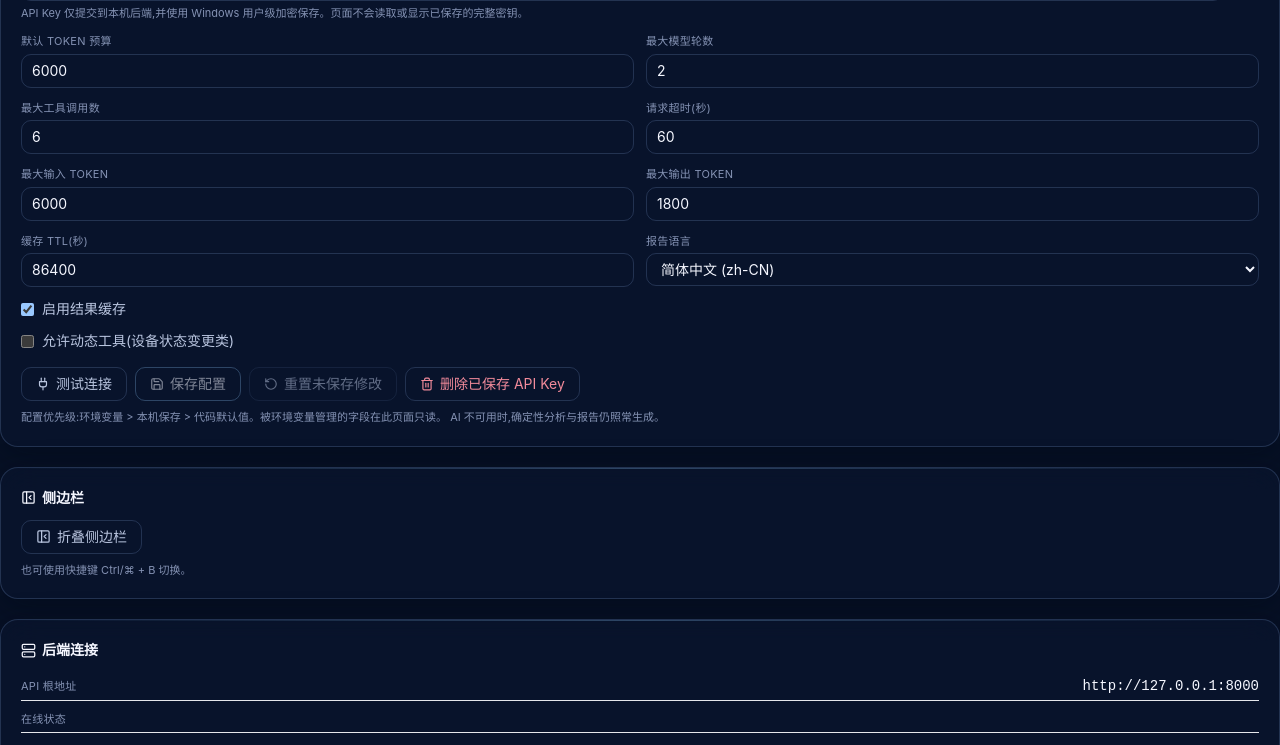
Test: M6B — AI 配置表单 › 测试连接状态 timeout 有中文友好提示
(page scrolled)
Click the button with test id "ai-settings-test" at (74, 384), box top-left (21, 367), bottom-right (127, 401)
(page scrolled)
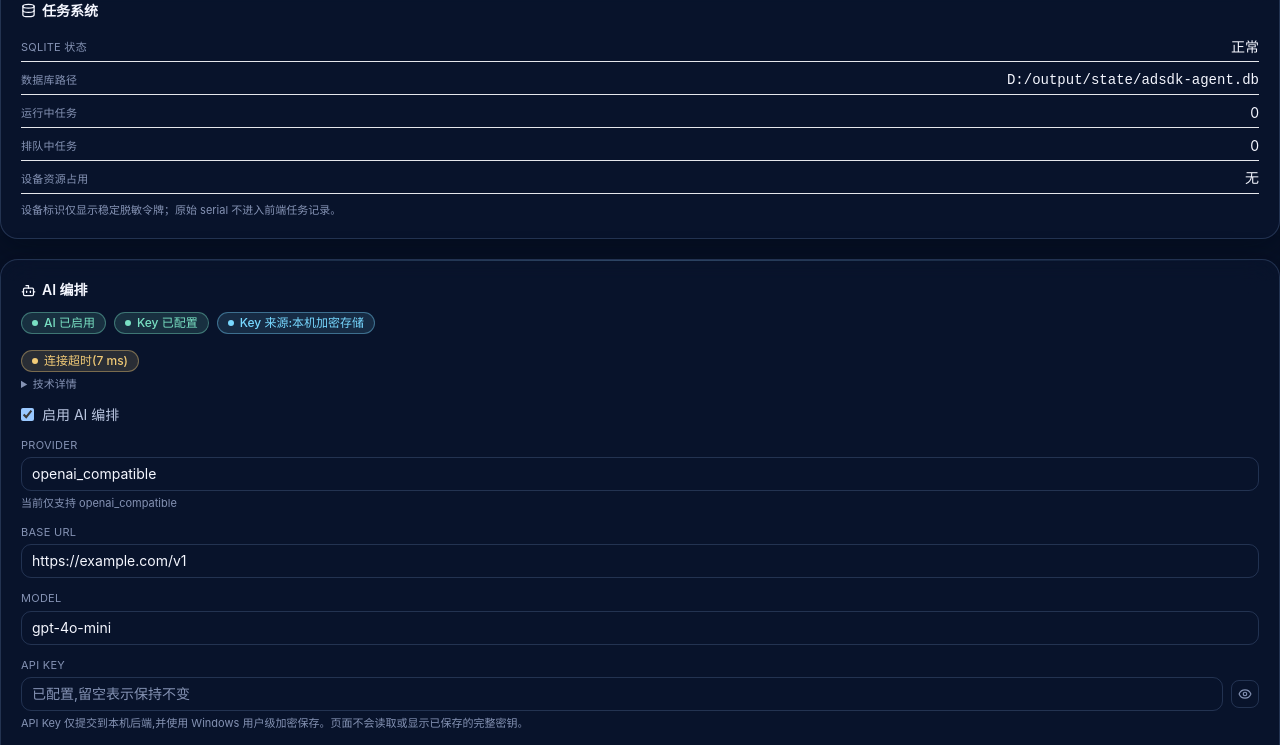
Expected: the text "连接超时(7 ms)" is shown, top-left (21, 350), bottom-right (139, 372)
Expected: the heading "技术详情" is shown, top-left (33, 377), bottom-right (77, 391)
